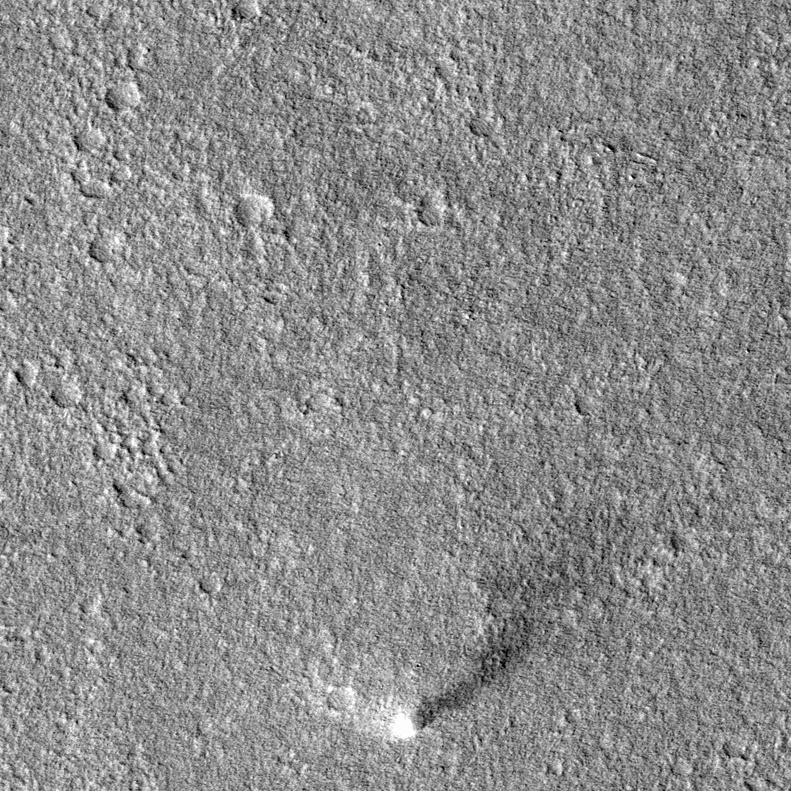dust_devil: (386, 612, 535, 743)
